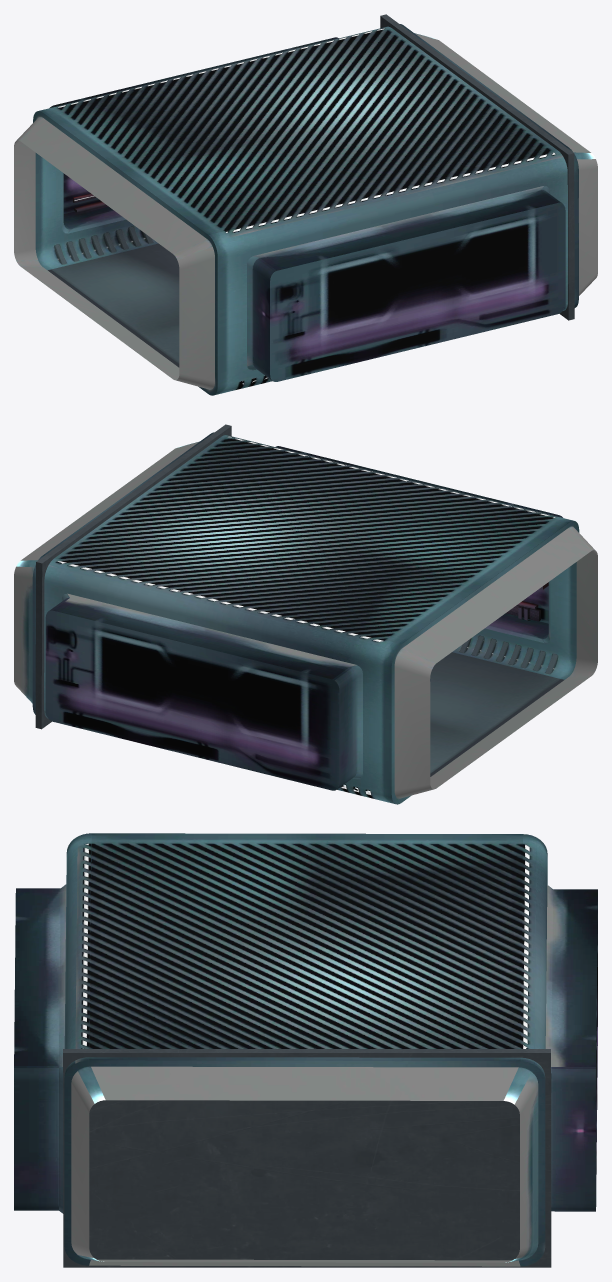
The picture shows the model from 3 angles, top to bottom: view 1: azimuth 30°, elevation 25°; view 2: azimuth 150°, elevation 25°; view 3: azimuth 270°, elevation 25°; orthographic projection. The views are drawn at different scales.
Visible parts, largest first — view 1: Box_Material.011_0, Floor_Material.004_0, pCube4_defaultPolygonShader_0, Side_floor_Material.032_0, roof_Material.031_0; view 2: Box_Material.011_0, Floor_Material.004_0, pCube4_defaultPolygonShader_0, Side_floor_Material.032_0, roof_Material.031_0; view 3: Box_Material.011_0, pCube4_defaultPolygonShader_0, roof_Material.031_0.
Boxes of the visible parts, bbox=[...] form: Box_Material.011_0: bbox=[14, 24, 597, 395]; Floor_Material.004_0: bbox=[48, 243, 179, 367]; pCube4_defaultPolygonShader_0: bbox=[380, 14, 574, 320]; Side_floor_Material.032_0: bbox=[54, 226, 267, 384]; roof_Material.031_0: bbox=[58, 28, 555, 232]; Box_Material.011_0: bbox=[14, 432, 597, 804]; Floor_Material.004_0: bbox=[430, 652, 563, 776]; pCube4_defaultPolygonShader_0: bbox=[35, 424, 231, 729]; Side_floor_Material.032_0: bbox=[341, 636, 557, 794]; roof_Material.031_0: bbox=[57, 436, 555, 641]; Box_Material.011_0: bbox=[14, 833, 597, 1266]; pCube4_defaultPolygonShader_0: bbox=[63, 1049, 551, 1267]; roof_Material.031_0: bbox=[82, 843, 529, 1048].
Size of the model in its own units: 12.14 by 4.61 by 11.35.
24 materials, 21 textured.
